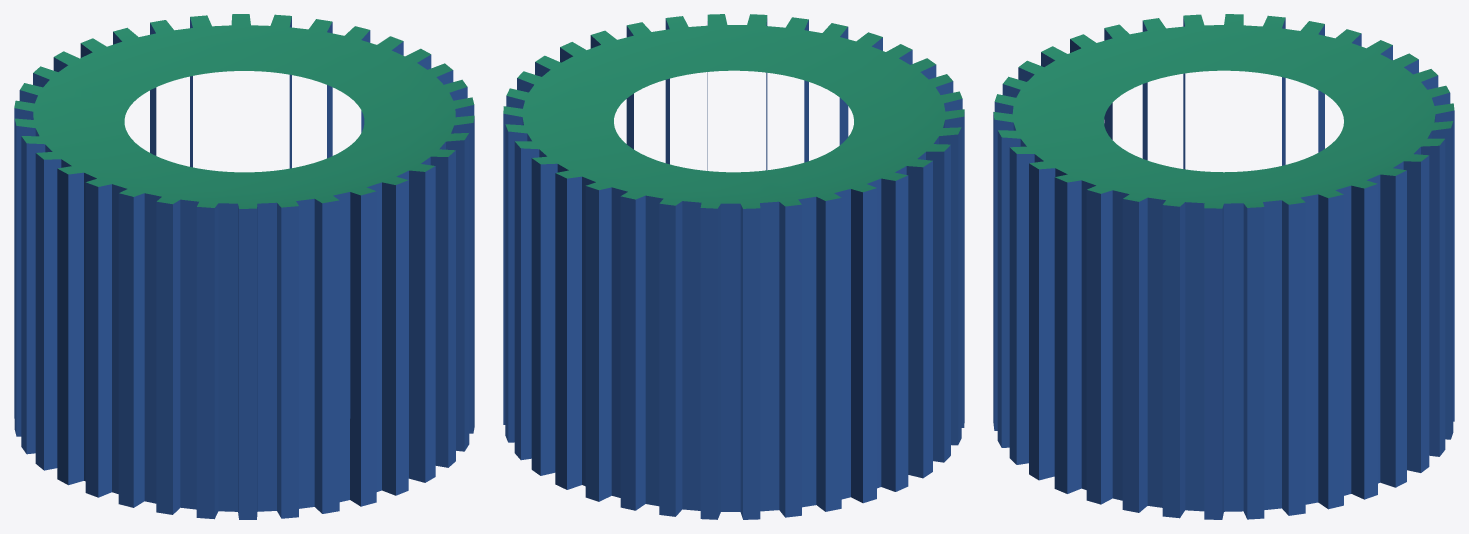
The picture shows the model from 3 angles, left to right: view 1: azimuth 30°, elevation 25°; view 2: azimuth 150°, elevation 25°; view 3: azimuth 270°, elevation 25°; orthographic projection.
Parts seen in each view (by area): view 1: Joint_0_Object_0; view 2: Joint_0_Object_0; view 3: Joint_0_Object_0.
Boxes of the visible parts, bbox=[...] form: Joint_0_Object_0: bbox=[14, 14, 474, 519]; Joint_0_Object_0: bbox=[503, 14, 964, 519]; Joint_0_Object_0: bbox=[993, 14, 1454, 519].
Size of the model in its own units: 183 by 137 by 183.
